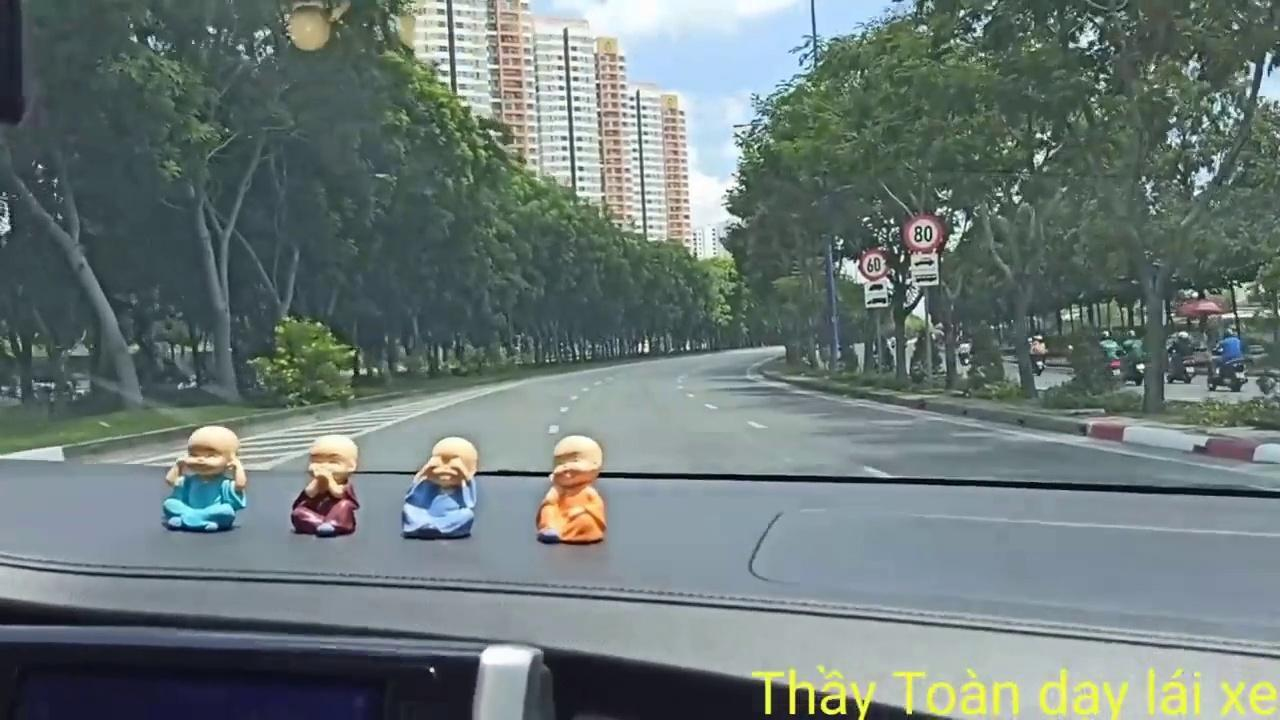Biển phụ: (910, 254, 940, 286), (862, 279, 888, 310)
GIơi hạn tốc độ 60Km/h: (860, 248, 889, 280)
Giới hạn tốc độ 80Km/h: (902, 214, 944, 253)
